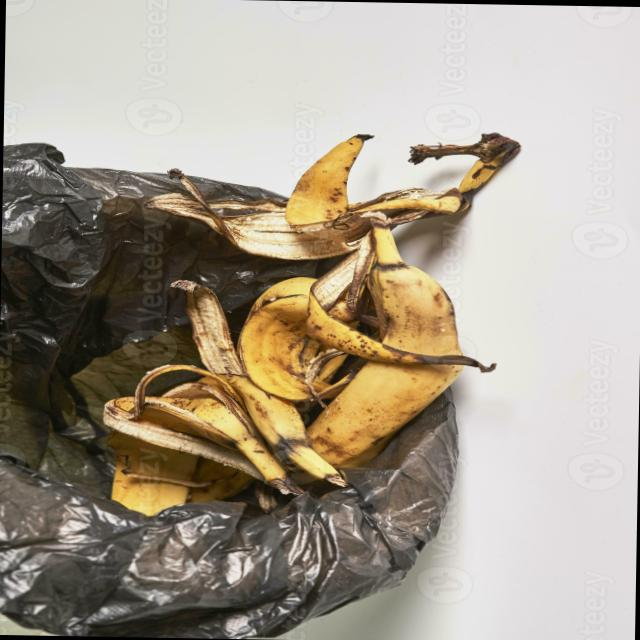banana_peel: (91, 115, 549, 515)
